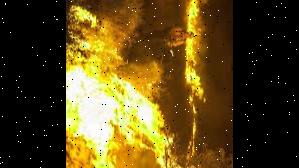fire: (67, 2, 113, 168), (114, 72, 169, 168), (182, 49, 206, 101), (160, 0, 203, 25)
